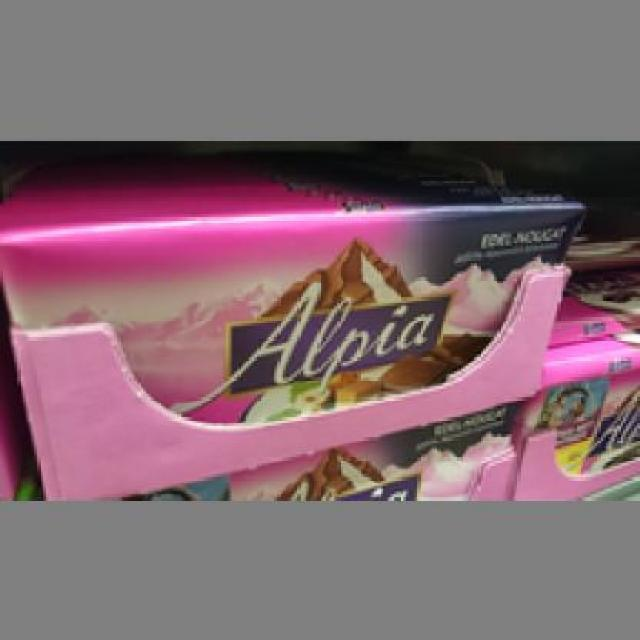Chocolate: (0, 193, 577, 430)
